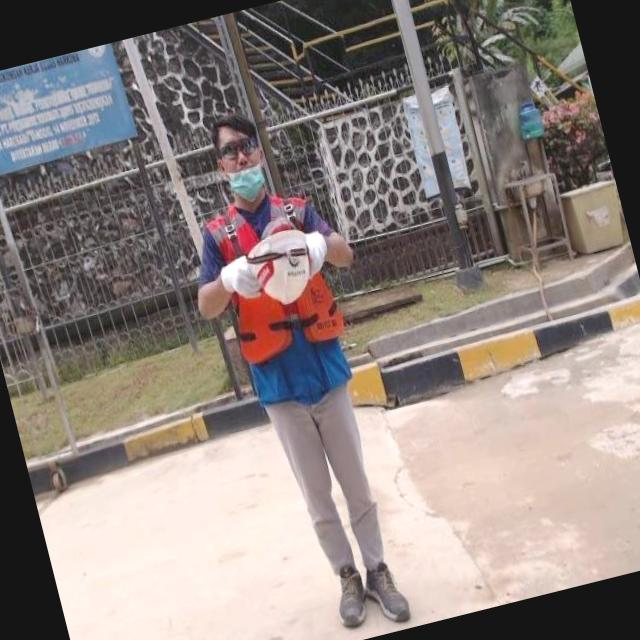vest: (201, 188, 358, 410)
